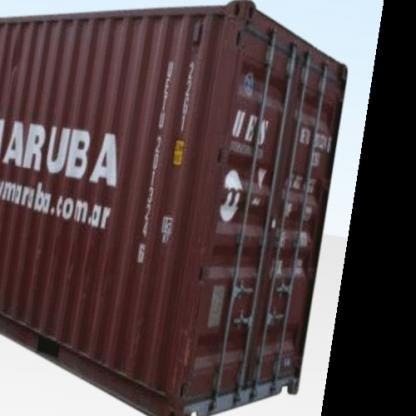Damage: (24, 211, 117, 292), (170, 292, 208, 397)
